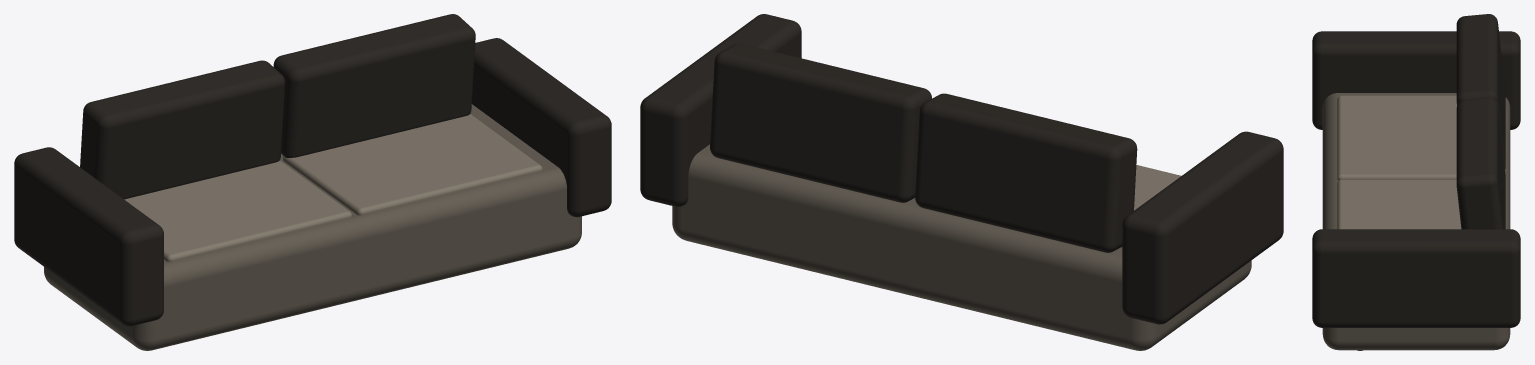
3 renders of one model, left to right at view 1: azimuth 30°, elevation 25°; view 2: azimuth 150°, elevation 25°; view 3: azimuth 270°, elevation 25°, orthographic. The views are drawn at different scales.
Parts seen in each view (by area): view 1: seat-base, back-cushion-1, back-cushion-2, arm-left, seat-cushion-2, arm-right, seat-cushion-1; view 2: seat-base, back-cushion-1, back-cushion-2, arm-left, arm-right, seat-cushion-1; view 3: arm-right, arm-left, seat-cushion-1, seat-base, seat-cushion-2, back-cushion-2, back-cushion-1.
Part boxes in pixels (bbox=[...]): seat-base: bbox=[44, 104, 581, 350]; back-cushion-1: bbox=[80, 60, 285, 199]; back-cushion-2: bbox=[273, 14, 475, 157]; arm-left: bbox=[14, 147, 163, 326]; seat-cushion-2: bbox=[283, 114, 542, 215]; arm-right: bbox=[472, 38, 611, 217]; seat-cushion-1: bbox=[124, 160, 352, 262]; seat-base: bbox=[672, 144, 1251, 350]; back-cushion-1: bbox=[915, 93, 1137, 252]; back-cushion-2: bbox=[710, 43, 931, 202]; arm-left: bbox=[1122, 131, 1283, 324]; arm-right: bbox=[640, 14, 801, 206]; seat-cushion-1: bbox=[1121, 165, 1181, 247]; arm-right: bbox=[1312, 229, 1520, 327]; arm-left: bbox=[1312, 31, 1520, 129]; seat-cushion-1: bbox=[1337, 95, 1456, 180]; seat-base: bbox=[1322, 93, 1510, 350]; seat-cushion-2: bbox=[1337, 179, 1461, 229]; back-cushion-2: bbox=[1456, 98, 1505, 229]; back-cushion-1: bbox=[1456, 14, 1505, 169].
Bounding box in the file's own units: 2.27 × 0.8189 × 0.92.
